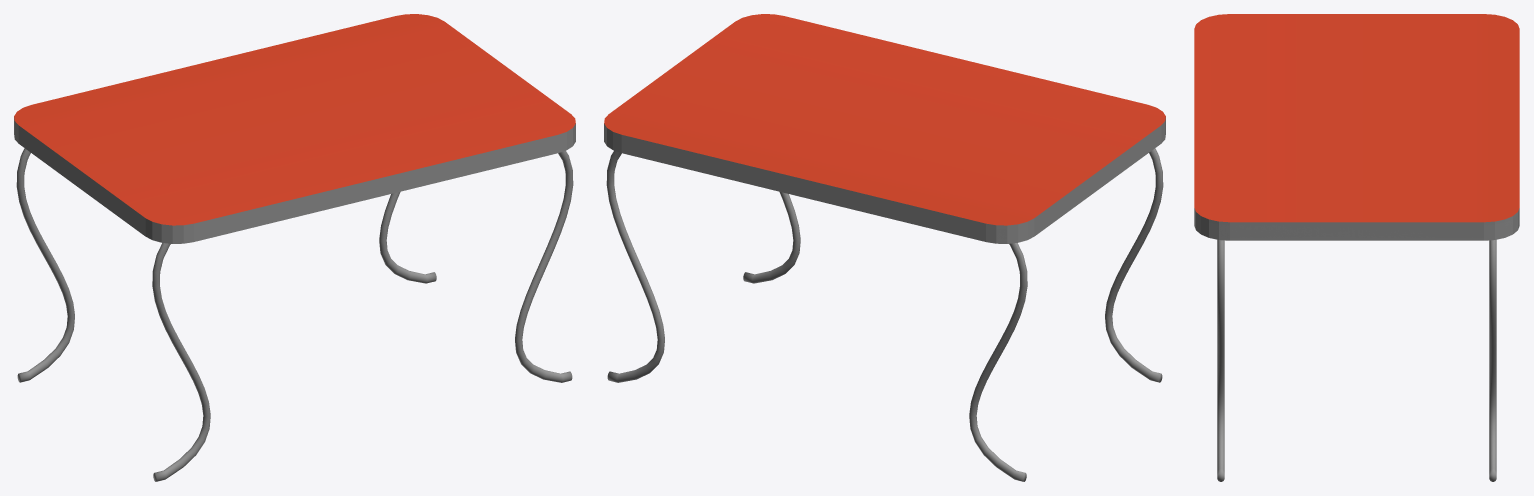
Rendered from Table con UV.fbx.
The picture shows the model from 3 angles, left to right: view 1: azimuth 30°, elevation 25°; view 2: azimuth 150°, elevation 25°; view 3: azimuth 270°, elevation 25°; orthographic projection.
Parts seen in each view (by area): view 1: Table2; view 2: Table2; view 3: Table2.
Part boxes in pixels (x1=…): Table2: x1=14, y1=14, x2=575, y2=481; Table2: x1=604, y1=14, x2=1165, y2=481; Table2: x1=1194, y1=14, x2=1519, y2=481.
Size of the model in its own units: 653 by 383 by 431.
